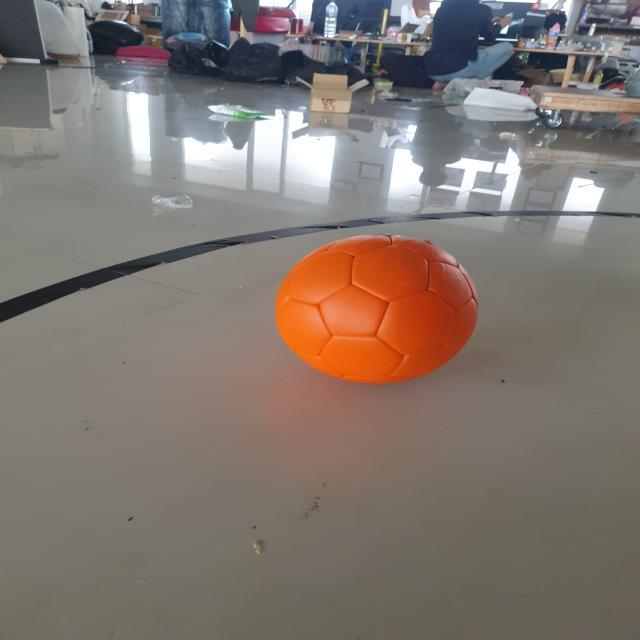bola: (270, 231, 480, 389)
